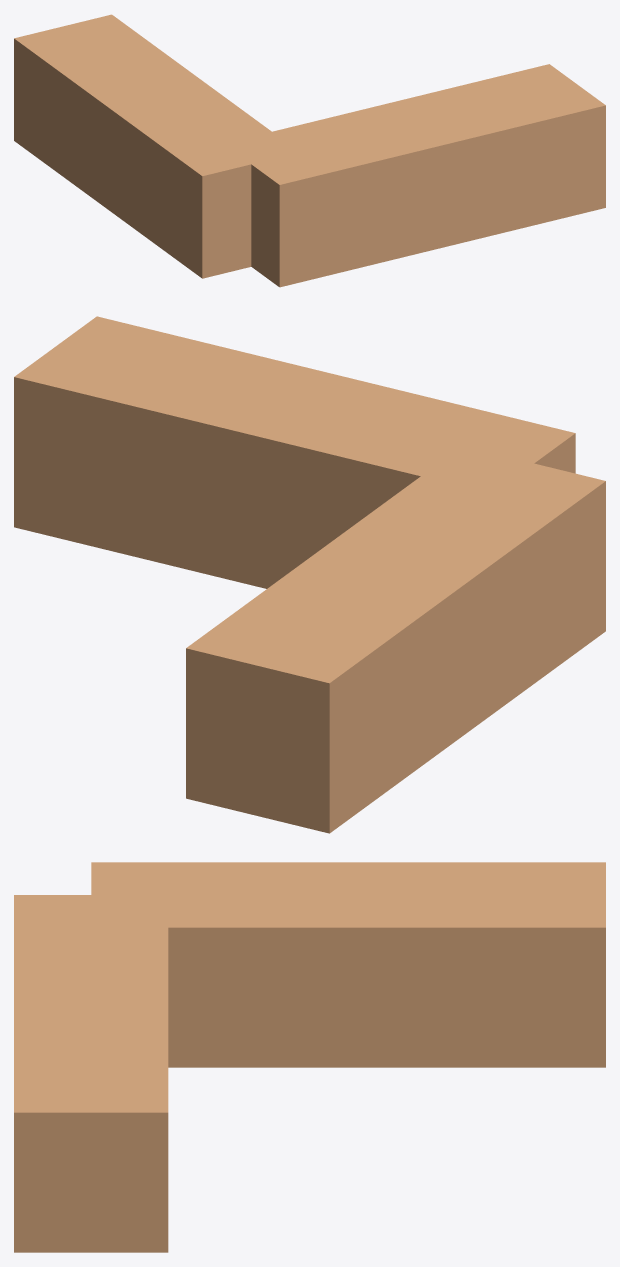
File: Prop_Water_AMF_PipeElbow_V1.glb
3 renders of one model, top to bottom at view 1: azimuth 30°, elevation 25°; view 2: azimuth 150°, elevation 25°; view 3: azimuth 270°, elevation 25°, orthographic. The views are drawn at different scales.
Visible parts, largest first — view 1: Prop_Water_AMF_PipeElbow_V1; view 2: Prop_Water_AMF_PipeElbow_V1; view 3: Prop_Water_AMF_PipeElbow_V1.
Part boxes in pixels (x1,y1,x2,y2): Prop_Water_AMF_PipeElbow_V1: (14, 14, 605, 287); Prop_Water_AMF_PipeElbow_V1: (14, 316, 605, 833); Prop_Water_AMF_PipeElbow_V1: (14, 862, 605, 1252).
Size of the model in its own units: 0.575 by 0.15 by 0.575.
